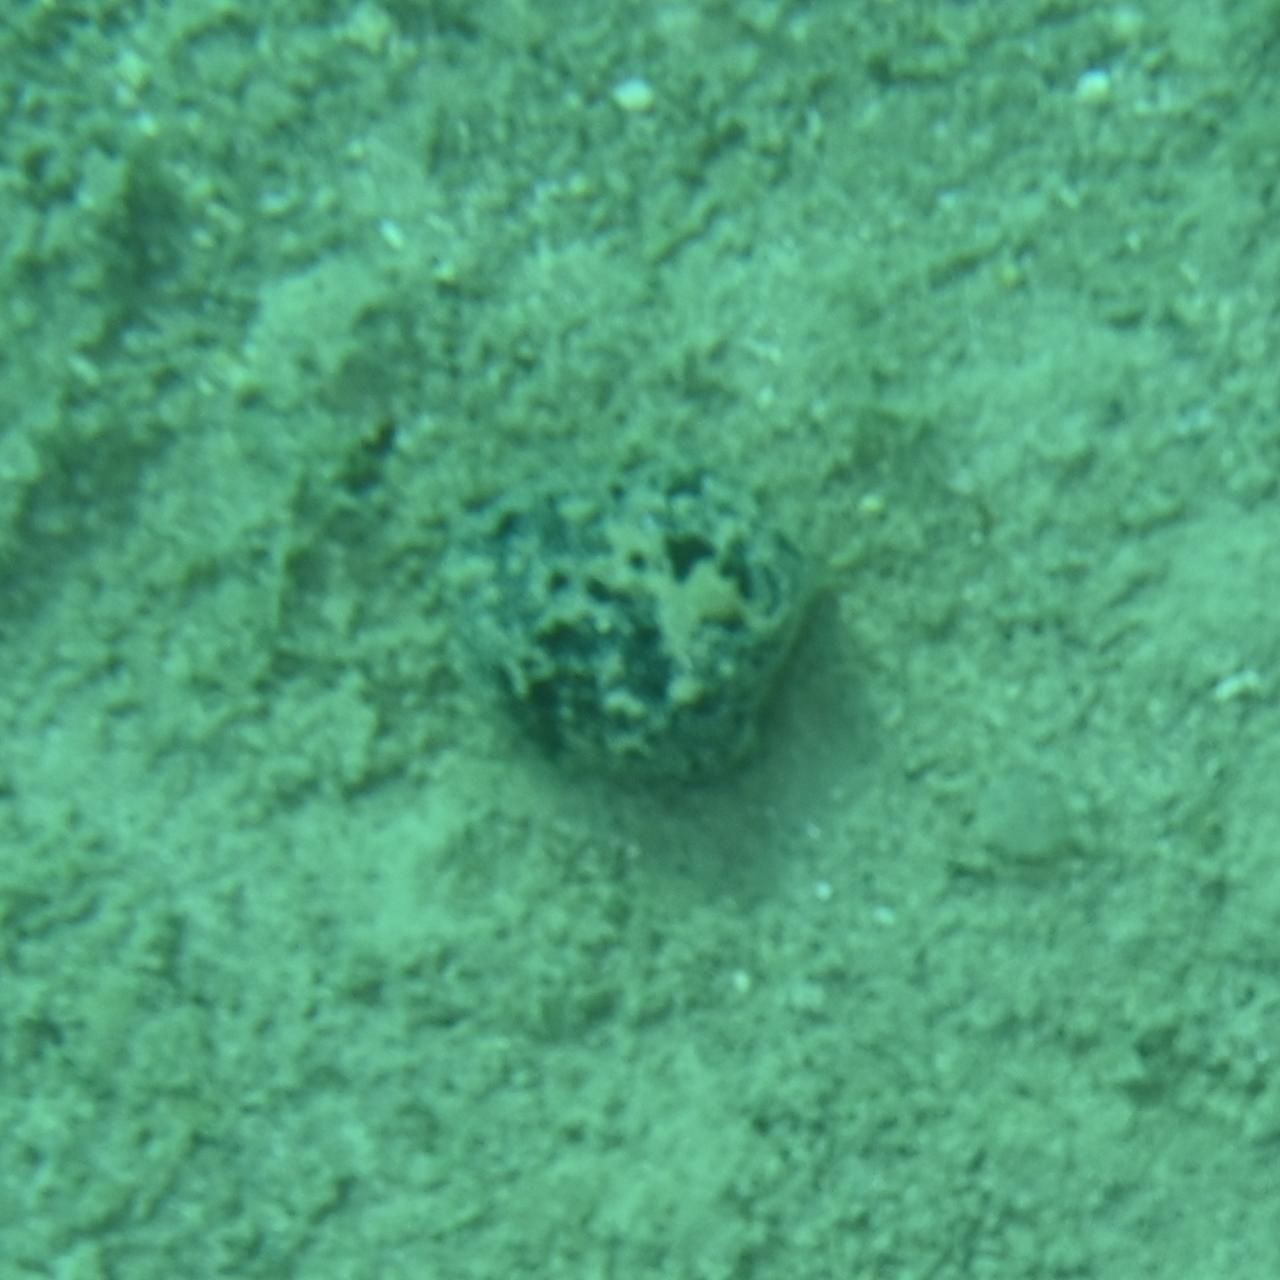Keratosa -cfr Sarcotragus-: (442, 462, 838, 818)
